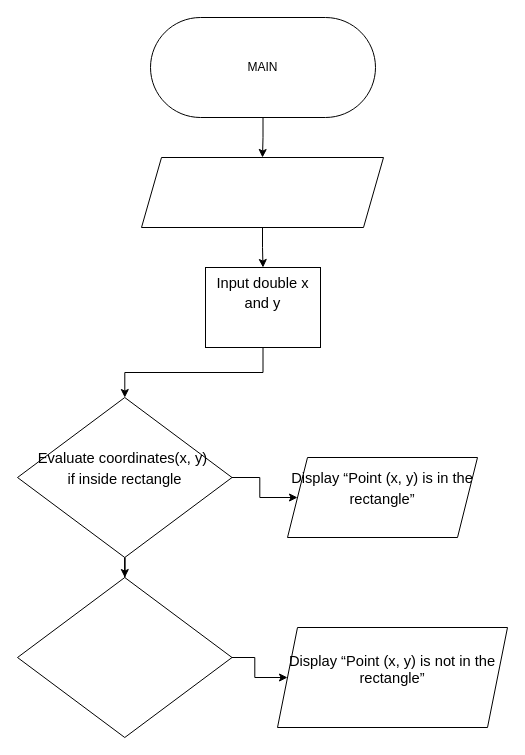
The diagram is 525 pixels wide and 755 high, and some of its shapes have lost their labels. The centre of each missing label's shape, as x and y in pixels:
Display “Enter a point with two coordinates: ": point 262,192
Else: point 124,657
